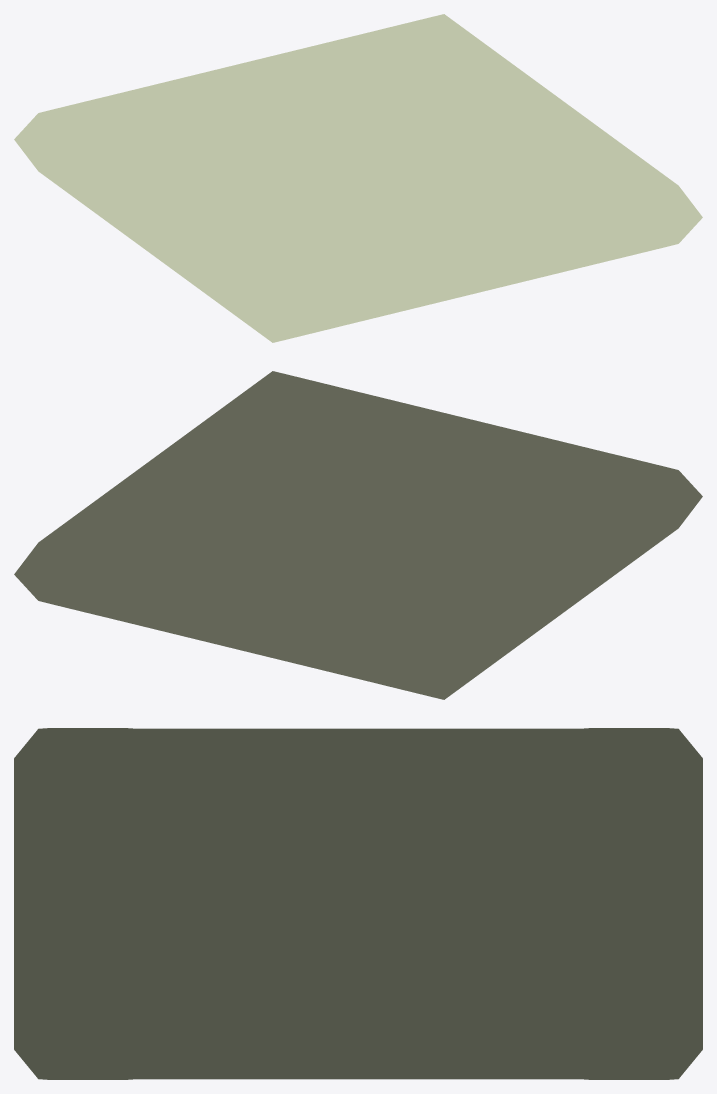
Rendered from platform.dae.
The picture shows the model from 3 angles, top to bottom: view 1: azimuth 30°, elevation 25°; view 2: azimuth 150°, elevation 25°; view 3: azimuth 270°, elevation 25°; orthographic projection. The views are drawn at different scales.
Visible parts, largest first — view 1: cube1-0; view 2: cube1-0; view 3: cube1-0.
Part boxes in pixels (x1,y1,x2,y2): cube1-0: (14, 14, 702, 342); cube1-0: (14, 371, 702, 699); cube1-0: (14, 728, 702, 1079).
Bounding box in the file's own units: 2.15 × 0.3133 × 2.15.
